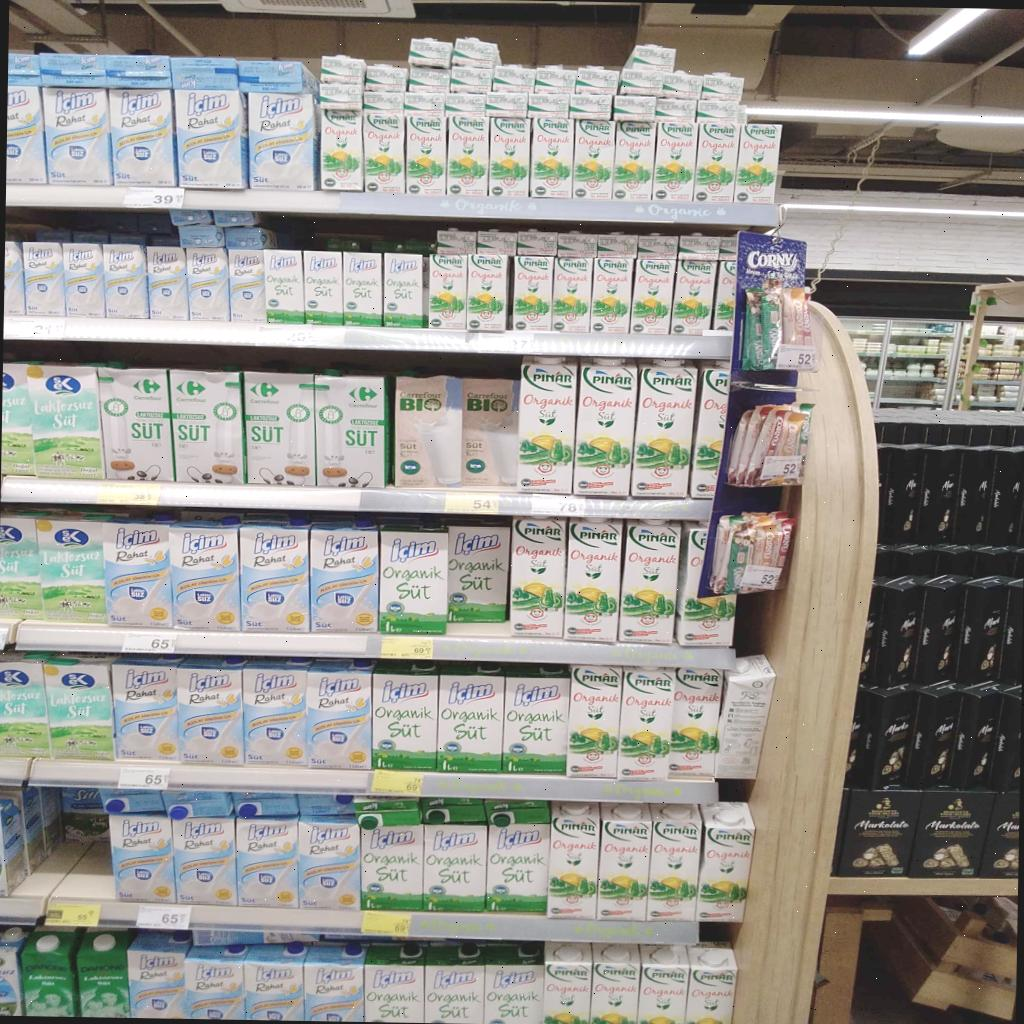price_tag: (96, 482, 160, 505), (372, 770, 423, 797), (137, 905, 192, 930), (4, 317, 66, 339), (45, 901, 99, 926), (362, 910, 410, 938), (122, 630, 177, 654), (123, 188, 184, 209), (118, 767, 169, 790), (259, 324, 314, 345), (381, 637, 433, 659), (446, 493, 499, 514), (531, 496, 585, 515), (0, 626, 10, 650)
product: (631, 359, 697, 497), (573, 358, 638, 496), (169, 371, 245, 485), (98, 367, 174, 481), (26, 364, 102, 478), (315, 376, 390, 488), (168, 518, 242, 631), (243, 373, 315, 486), (518, 357, 577, 493), (240, 522, 309, 633), (394, 376, 462, 488), (42, 654, 114, 759), (311, 522, 379, 632), (619, 522, 681, 642), (715, 654, 775, 778), (103, 522, 173, 628), (379, 527, 448, 634), (174, 90, 248, 189), (36, 519, 106, 623), (437, 666, 505, 772), (502, 668, 570, 774), (372, 663, 439, 770), (111, 657, 179, 762), (675, 528, 736, 645), (178, 658, 244, 765), (697, 802, 755, 922), (242, 659, 307, 766), (486, 805, 549, 915), (308, 662, 372, 769), (565, 521, 622, 640), (423, 808, 488, 912), (249, 92, 317, 191), (510, 519, 567, 637), (43, 88, 112, 185), (647, 804, 702, 921), (619, 668, 676, 780), (597, 803, 651, 921), (461, 378, 520, 486), (110, 89, 175, 186), (448, 522, 509, 623), (567, 666, 622, 778), (548, 802, 600, 919), (110, 815, 176, 903), (670, 668, 723, 776), (361, 823, 426, 911), (299, 820, 361, 910), (236, 818, 298, 908), (127, 930, 190, 1018), (173, 818, 236, 905), (0, 654, 50, 757), (21, 928, 79, 1016), (424, 943, 486, 1023), (180, 945, 247, 1019), (691, 368, 729, 498), (77, 929, 132, 1017), (244, 942, 306, 1020), (364, 942, 423, 1022), (304, 944, 364, 1021), (484, 944, 542, 1022), (0, 516, 42, 620), (318, 98, 363, 191), (686, 944, 737, 1023), (489, 99, 530, 196), (6, 84, 46, 183), (591, 944, 641, 1023), (639, 945, 689, 1023), (544, 943, 592, 1023), (1, 364, 34, 475), (695, 121, 740, 202), (735, 124, 781, 203), (362, 112, 406, 194), (531, 116, 575, 197), (654, 119, 697, 201), (464, 252, 509, 330), (631, 258, 677, 334), (671, 257, 716, 333), (103, 244, 149, 318), (446, 114, 488, 195), (613, 121, 656, 200), (383, 253, 428, 328), (573, 119, 614, 199), (406, 114, 447, 194), (552, 254, 593, 333), (591, 257, 634, 332), (427, 252, 467, 330), (512, 256, 554, 330), (23, 241, 64, 316), (187, 248, 229, 321), (63, 244, 105, 317), (147, 247, 188, 321), (264, 250, 305, 324), (304, 251, 345, 324), (342, 254, 383, 327), (228, 250, 266, 323), (0, 926, 27, 1015), (4, 241, 26, 315)
